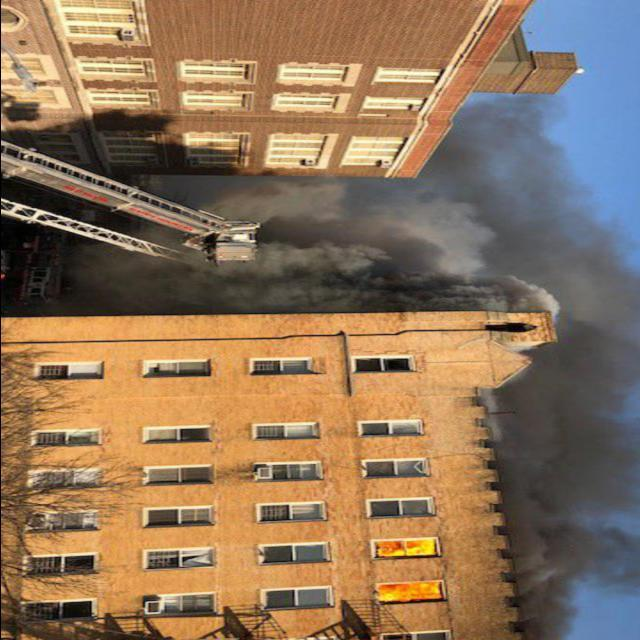Fire: (358, 578, 452, 614), (358, 534, 446, 568)
